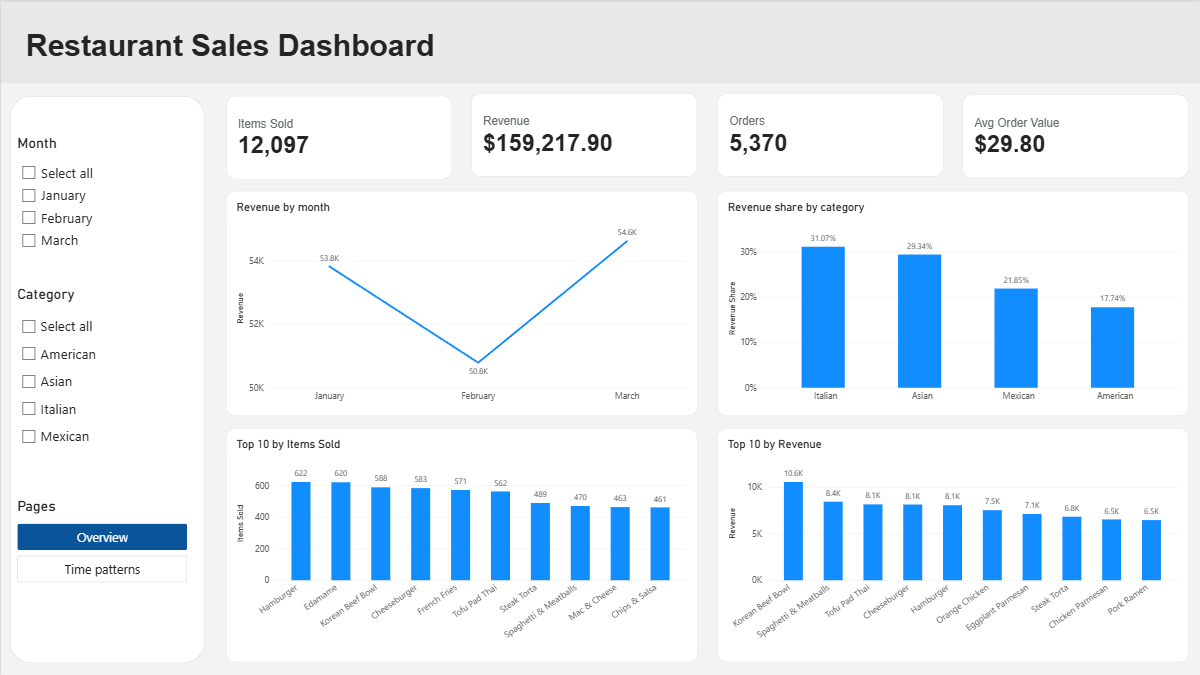

The dashboard page shown, as its layout file describes it:
{"tool":"powerbi","page":{"name":"Overview","canvas":[1920,1080],"ordinal":0},"visuals":[{"type":"shape","box":[0,0,1920,130],"z":0,"group":"g1"},{"type":"shape","box":[14,150,312,908],"z":0,"group":"g2"},{"type":"cardVisual","fields":{"Data":["order_details.Items Sold"]},"box":[360,150,362,134],"z":0},{"type":"textbox","box":[40,42,854,68],"z":1000,"group":"g1"},{"type":"lineChart","title":"Revenue by month","fields":{"Category":["order_details.order_date.Variation.Date Hierarchy.Month","order_details.order_date.Variation.Date Hierarchy.Day"],"Y":["order_details.Revenue"]},"box":[360,302,754,360],"z":1000},{"type":"columnChart","title":"Revenue share by category","fields":{"Category":["menu_items.category"],"Y":["order_details.Revenue Share"]},"box":[1146,302,754,360],"z":2000},{"type":"columnChart","title":"Top 10 by Items Sold","fields":{"Category":["menu_items.item_name"],"Y":["order_details.Items Sold"]},"box":[360,682,754,374],"z":3000},{"type":"cardVisual","fields":{"Data":["order_details.Avg Order Value"]},"box":[1538,148,362,134],"z":4000},{"type":"cardVisual","fields":{"Data":["order_details.Revenue"]},"box":[752.7,146,362,134],"z":5000},{"type":"slicer","title":"Month","fields":{"Values":["order_details.order_date.Variation.Date Hierarchy.Month"]},"box":[26,212,298,226],"z":5000,"group":"g2"},{"type":"cardVisual","fields":{"Data":["order_details.Orders"]},"box":[1145.3,146,362,134],"z":6000},{"type":"group","id":"g1","title":"Group 1","box":[0,0,1920,130],"z":7000},{"type":"group","id":"g2","title":"Group 2","box":[14,150,314,908],"z":8000},{"type":"slicer","title":"Category","fields":{"Values":["menu_items.category"]},"box":[26,454,302,324],"z":9000,"group":"g2"},{"type":"columnChart","title":"Top 10 by Revenue","fields":{"Category":["menu_items.item_name"],"Y":["order_details.Revenue"]},"box":[1146,682,754,374],"z":9000},{"type":"pageNavigator","title":"Pages","box":[26,792,272,138],"z":10000,"group":"g2"}]}

Visuals, with their boxes in screenshot pixels (x1, y1, x2, y2), scaled from the page's 1920x1080 canvas onto the 1200x675 screenshot:
shape: [left=0, top=0, right=1199, bottom=81]
shape: [left=9, top=94, right=204, bottom=661]
cardVisual - order_details.Items Sold: [left=225, top=94, right=451, bottom=178]
textbox: [left=25, top=26, right=559, bottom=69]
"Revenue by month" lineChart: [left=225, top=189, right=696, bottom=414]
"Revenue share by category" columnChart: [left=716, top=189, right=1188, bottom=414]
"Top 10 by Items Sold" columnChart: [left=225, top=426, right=696, bottom=660]
cardVisual - order_details.Avg Order Value: [left=961, top=92, right=1188, bottom=176]
cardVisual - order_details.Revenue: [left=470, top=91, right=697, bottom=175]
"Month" slicer: [left=16, top=132, right=202, bottom=274]
cardVisual - order_details.Orders: [left=716, top=91, right=942, bottom=175]
"Group 1" group: [left=0, top=0, right=1199, bottom=81]
"Group 2" group: [left=9, top=94, right=205, bottom=661]
"Category" slicer: [left=16, top=284, right=205, bottom=486]
"Top 10 by Revenue" columnChart: [left=716, top=426, right=1188, bottom=660]
"Pages" pageNavigator: [left=16, top=495, right=186, bottom=581]
